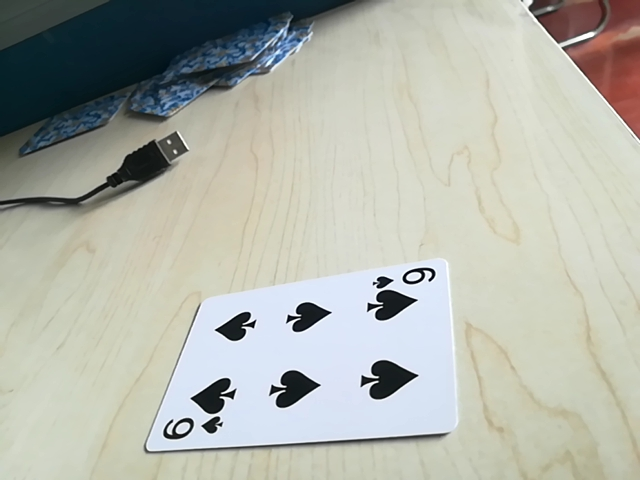ht 6: (153, 413, 227, 448), (372, 263, 442, 293)
